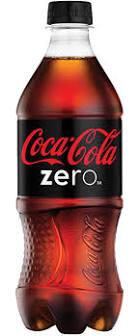HDPE Cap: (46, 1, 93, 24)
PET Bottle: (15, 1, 124, 335)
PVC Label: (16, 118, 123, 197)
